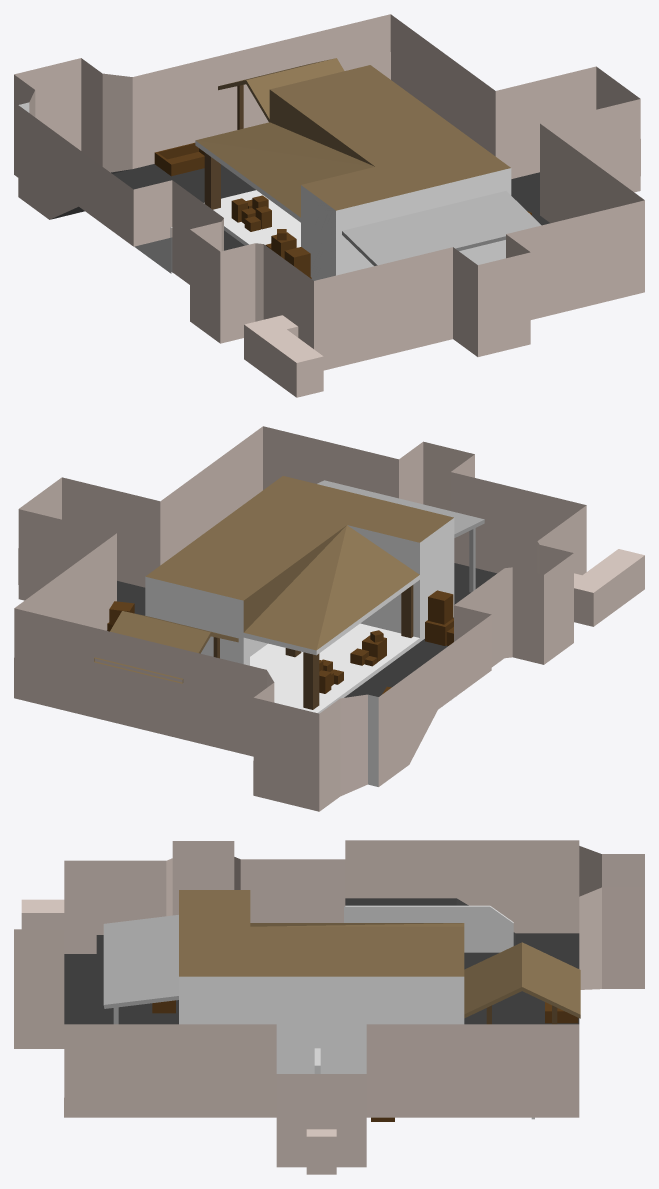
Rendered from CubeErno.fbx.
3 renders of one model, top to bottom at view 1: azimuth 30°, elevation 25°; view 2: azimuth 150°, elevation 25°; view 3: azimuth 270°, elevation 25°, orthographic. The views are drawn at different scales.
Parts seen in each view (by area): view 1: Cube.003, Cube.002, Cube.035, Cube.041, Cube.001, Cube.005, Cube.027; view 2: Cube.003, Cube.002, Cube.041, Cube.001, Cube.005, Cube.035; view 3: Cube.003, Cube.002, Cube.035, Cube.001, Cube.027, Cube.041.
Boxes of the visible parts, x1,y1,x2,y2 form: Cube.003: (14,14,644,397); Cube.002: (195,65,511,280); Cube.035: (342,191,541,265); Cube.041: (154,142,531,278); Cube.001: (218,58,344,122); Cube.005: (204,85,243,209); Cube.027: (134,227,172,273); Cube.003: (14,426,644,811); Cube.002: (145,476,454,713); Cube.041: (107,590,453,694); Cube.001: (94,611,238,683); Cube.005: (213,585,413,709); Cube.035: (317,480,484,592); Cube.003: (14,840,644,1174); Cube.002: (179,890,464,1073); Cube.035: (103,915,178,1024); Cube.001: (464,942,580,1018); Cube.027: (344,905,513,952); Cube.041: (152,1000,578,1121).
Bounding box in the file's own units: 3391 × 729 × 3747.
